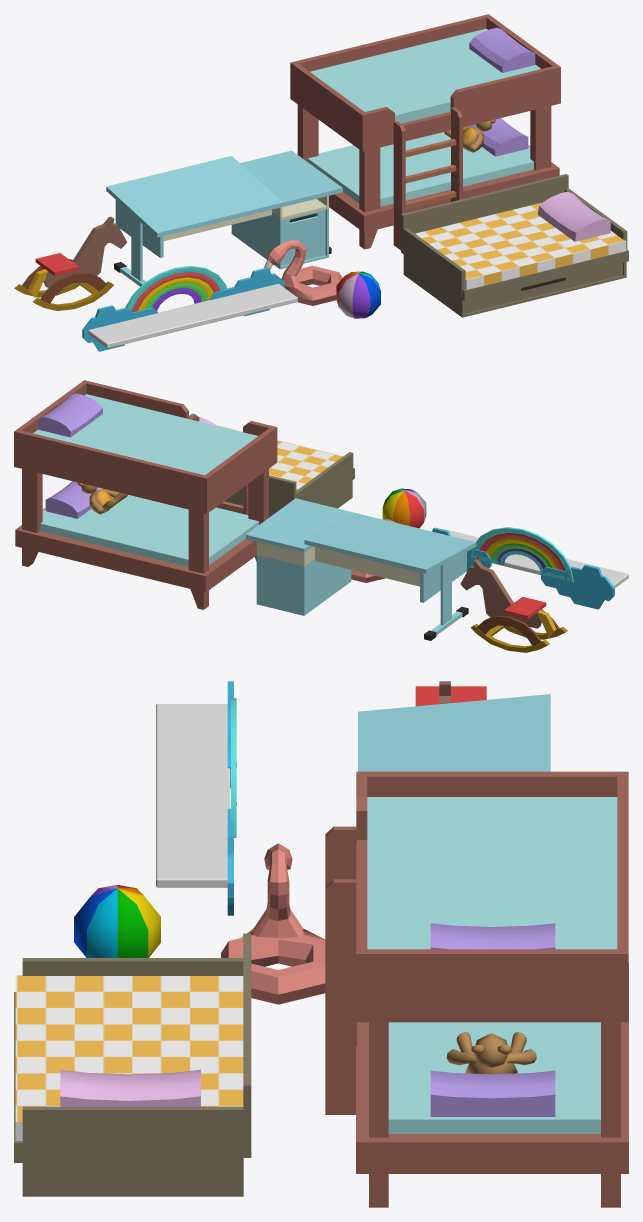
File: Level_6.fbx
3 renders of one model, top to bottom at view 1: azimuth 30°, elevation 25°; view 2: azimuth 150°, elevation 25°; view 3: azimuth 270°, elevation 25°, orthographic. The views are drawn at different scales.
Visible parts, largest first — view 1: Bed2, Bed4, Table2, Rainbow_Stand, Horse4, Stair, Bird_Duck1, Pillow7, Pillow4, Boll, Pillow5, Teddy_Bear1; view 2: Bed2, Table2, Rainbow_Stand, Bed4, Horse4, Pillow4, Boll, Pillow5, Teddy_Bear1, Stair; view 3: Bed2, Bed4, Rainbow_Stand, Table2, Stair, Bird_Duck1, Pillow5, Boll, Pillow7, Pillow4, Teddy_Bear1, Horse4.
Part boxes in pixels (x1=…): Bed2: x1=290, y1=14, x2=560, y2=249; Bed4: x1=401, y1=174, x2=628, y2=317; Table2: x1=106, y1=150, x2=342, y2=286; Rainbow_Stand: x1=82, y1=266, x2=297, y2=351; Horse4: x1=14, y1=216, x2=126, y2=310; Stair: x1=393, y1=107, x2=462, y2=250; Bird_Duck1: x1=264, y1=240, x2=342, y2=305; Pillow7: x1=537, y1=191, x2=610, y2=241; Pillow4: x1=469, y1=27, x2=535, y2=72; Boll: x1=336, y1=271, x2=380, y2=318; Pillow5: x1=468, y1=118, x2=528, y2=156; Teddy_Bear1: x1=444, y1=119, x2=496, y2=152; Bed2: x1=14, y1=380, x2=277, y2=609; Table2: x1=246, y1=498, x2=476, y2=640; Rainbow_Stand: x1=432, y1=527, x2=628, y2=609; Bed4: x1=189, y1=413, x2=354, y2=517; Horse4: x1=460, y1=559, x2=567, y2=652; Pillow4: x1=38, y1=393, x2=102, y2=437; Boll: x1=382, y1=488, x2=426, y2=528; Pillow5: x1=45, y1=481, x2=103, y2=518; Teddy_Bear1: x1=77, y1=482, x2=127, y2=514; Stair: x1=189, y1=414, x2=248, y2=514; Bed2: x1=356, y1=771, x2=628, y2=1207; Bed4: x1=14, y1=933, x2=251, y2=1196; Rainbow_Stand: x1=156, y1=681, x2=236, y2=915; Table2: x1=358, y1=694, x2=550, y2=771; Stair: x1=325, y1=826, x2=356, y2=1114; Bird_Duck1: x1=221, y1=843, x2=325, y2=1004; Pillow5: x1=430, y1=1070, x2=555, y2=1116; Boll: x1=74, y1=885, x2=160, y2=957; Pillow7: x1=60, y1=1069, x2=200, y2=1106; Pillow4: x1=430, y1=923, x2=555, y2=949; Teddy_Bear1: x1=446, y1=1032, x2=536, y2=1074; Horse4: x1=415, y1=681, x2=486, y2=706.
Bounding box in the file's own units: 15.43 × 4.29 × 8.53.
Materials: 39 (1 with a texture image).
